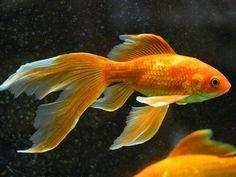goldfish: (27, 37, 234, 135)
